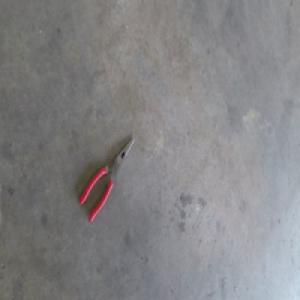Pliers: (80, 135, 135, 221)
